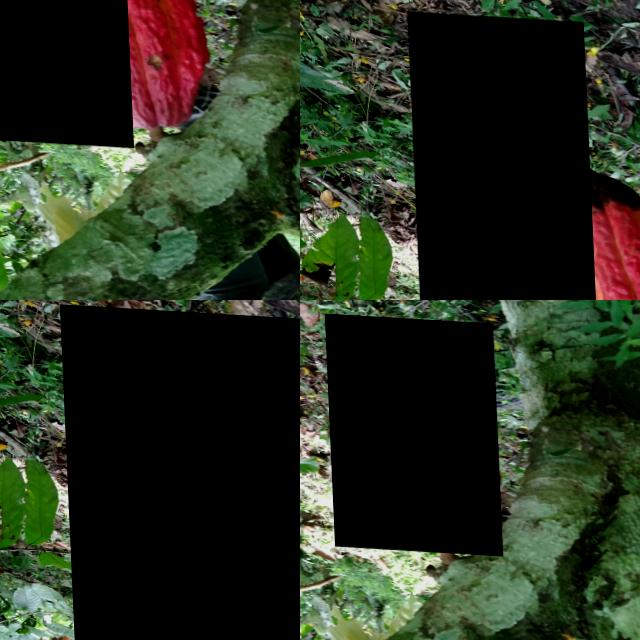Fitoftora: (58, 302, 300, 640), (407, 9, 593, 300), (323, 310, 499, 550), (0, 0, 129, 142)
